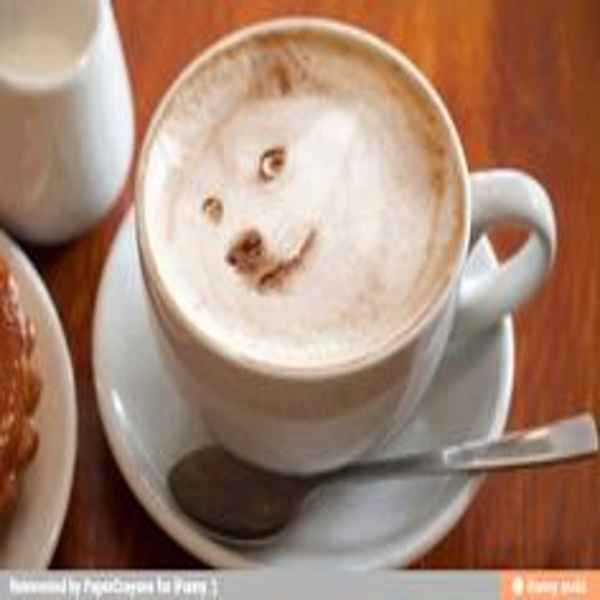doge: (159, 50, 412, 328)
